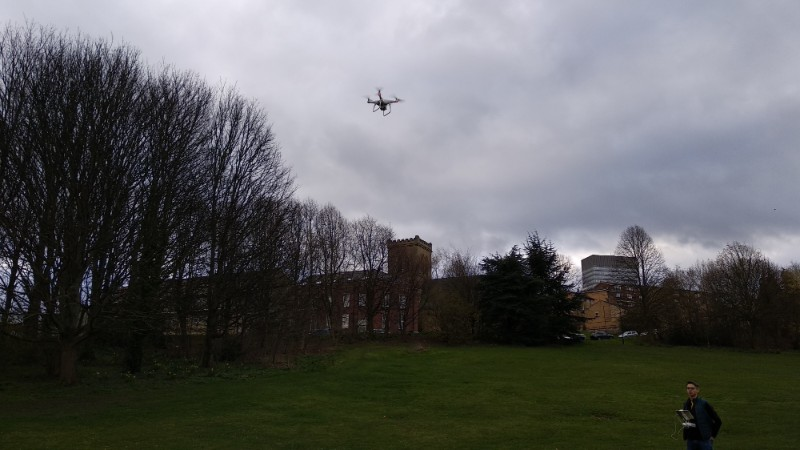drone: (363, 86, 406, 116)
